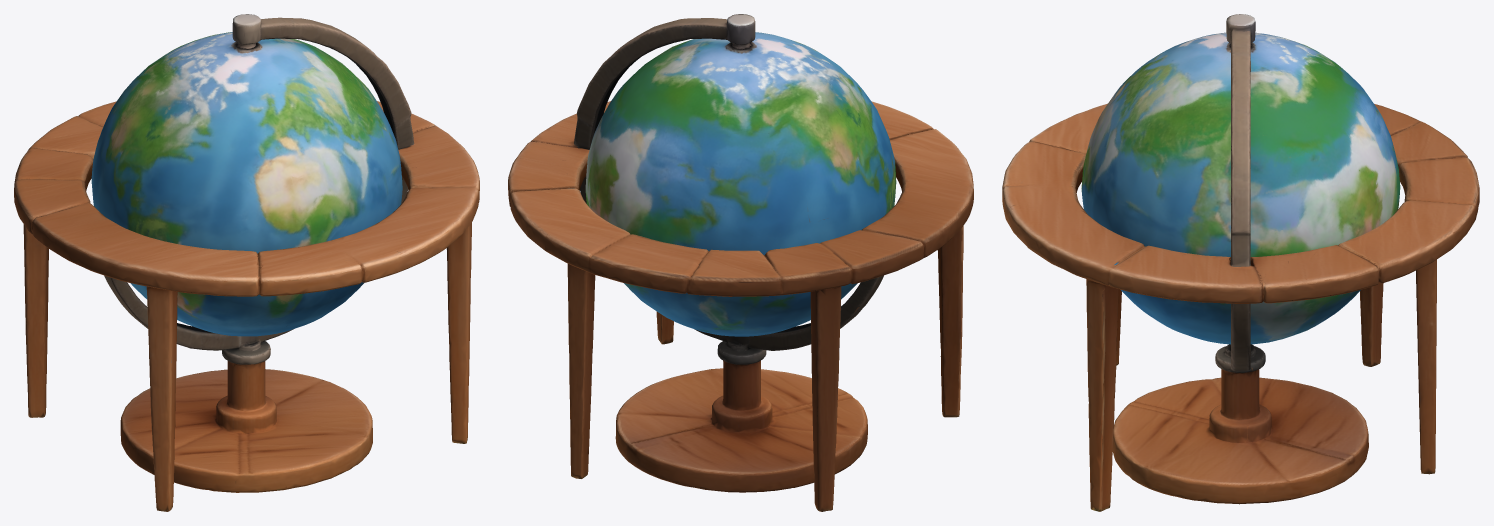
File: library_GlobeTable.glb
3 renders of one model, left to right at view 1: azimuth 30°, elevation 25°; view 2: azimuth 150°, elevation 25°; view 3: azimuth 270°, elevation 25°, orthographic. The views are drawn at different scales.
Parts seen in each view (by area): view 1: world; view 2: world; view 3: world.
Part boxes in pixels (box(x1,y1,x2,y2)): world: box(14, 14, 479, 511); world: box(508, 14, 973, 511); world: box(1002, 14, 1479, 511).
Size of the model in its own units: 1 by 0.9994 by 1.
1 material, 1 textured.
